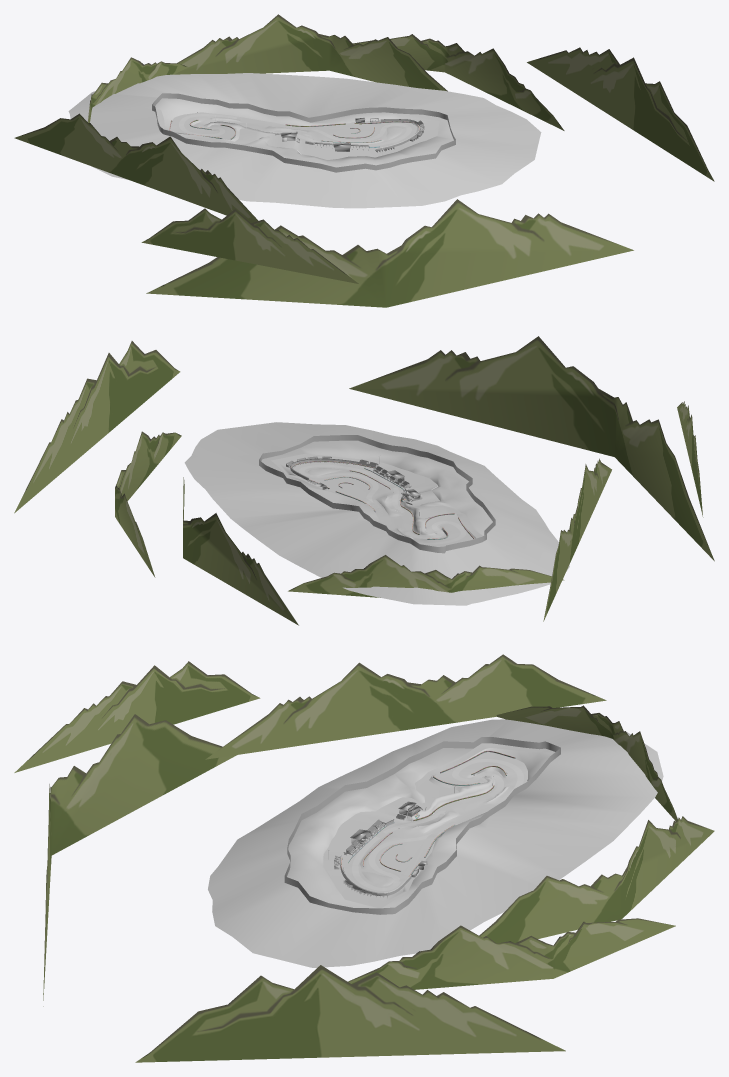
The model's file is circuit ebisu - minami.fbx.
3 renders of one model, top to bottom at view 1: azimuth 30°, elevation 25°; view 2: azimuth 150°, elevation 25°; view 3: azimuth 270°, elevation 25°, orthographic. The views are drawn at different scales.
Visible parts, largest first — view 1: MOUNTAINS, GROUND_GRASS, GROUND, TRANS_TREE, SKID_MARKS, STONE_WALLS; view 2: MOUNTAINS, GROUND_GRASS, GROUND, TRANS_TREE, SKID_MARKS, STONE_WALLS; view 3: MOUNTAINS, GROUND_GRASS, GROUND, TRANS_TREE, SKID_MARKS, STONE_WALLS.
Part boxes in pixels (x1,y1,x2,y2): MOUNTAINS: (14, 14, 714, 307); GROUND_GRASS: (68, 73, 541, 208); GROUND: (151, 108, 439, 159); TRANS_TREE: (152, 93, 455, 172); SKID_MARKS: (179, 114, 411, 146); STONE_WALLS: (169, 119, 419, 150); MOUNTAINS: (14, 336, 714, 625); GROUND_GRASS: (184, 422, 569, 605); GROUND: (271, 454, 482, 553); TRANS_TREE: (259, 435, 495, 553); SKID_MARKS: (298, 464, 466, 544); STONE_WALLS: (291, 461, 474, 539); MOUNTAINS: (14, 654, 714, 1062); GROUND_GRASS: (208, 719, 663, 967); GROUND: (323, 743, 549, 908); TRANS_TREE: (284, 737, 560, 914); SKID_MARKS: (352, 759, 523, 890); STONE_WALLS: (341, 750, 515, 876).
Bounding box in the file's own units: 839 × 161 × 761.
